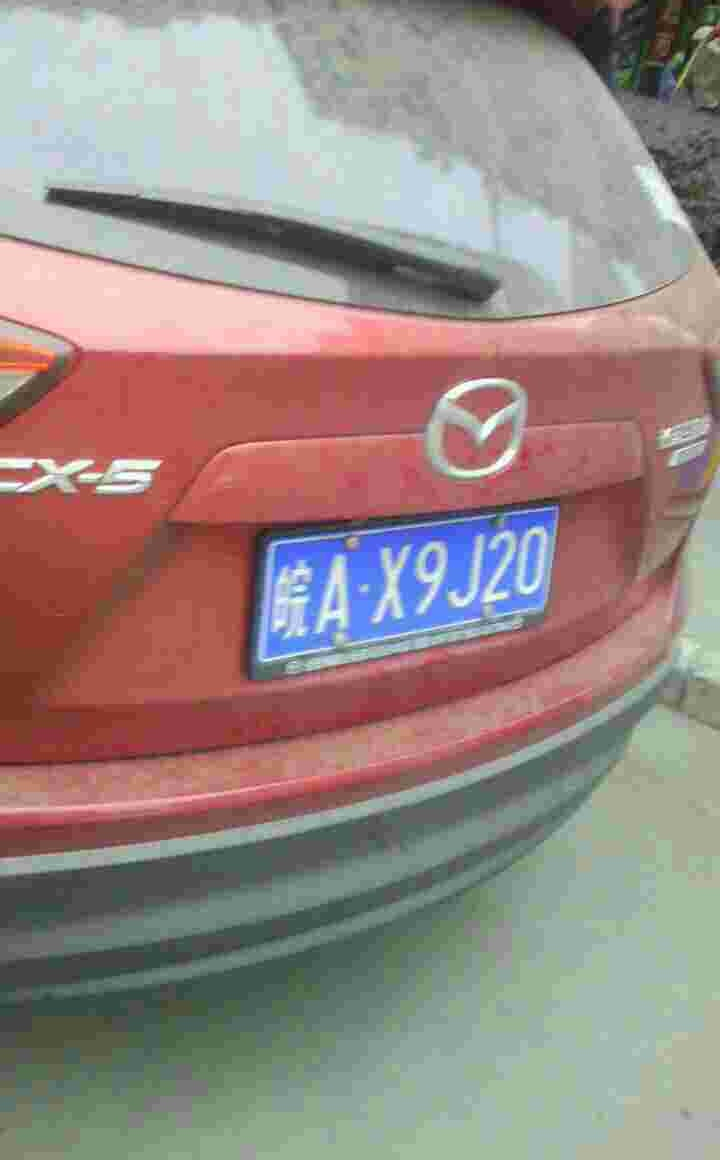license_plate: (262, 509, 568, 665)
